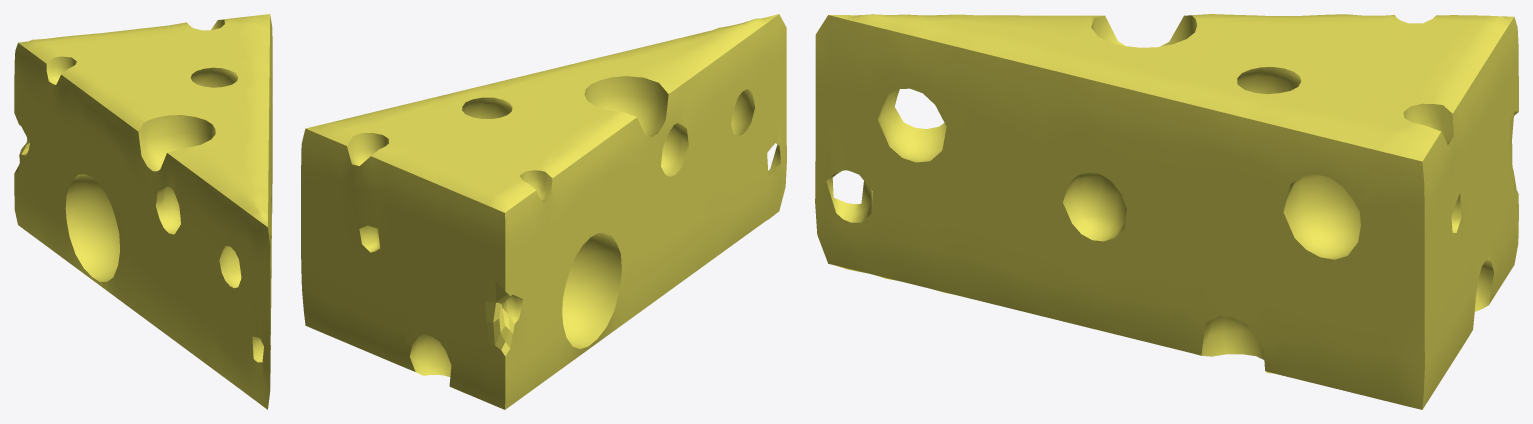
The model's file is cheese.glb.
3 views of the same model, side by side, from view 1: azimuth 30°, elevation 25°; view 2: azimuth 150°, elevation 25°; view 3: azimuth 270°, elevation 25° (orthographic). The views are drawn at different scales.
Visible parts, largest first — view 1: Cylinder001; view 2: Cylinder001; view 3: Cylinder001.
Part boxes in pixels (<box>): Cylinder001: <box>14,14,272,409</box>; Cylinder001: <box>301,14,786,409</box>; Cylinder001: <box>815,14,1518,409</box>.
Bounding box in the file's own units: 0.0312 × 0.0252 × 0.0615.
